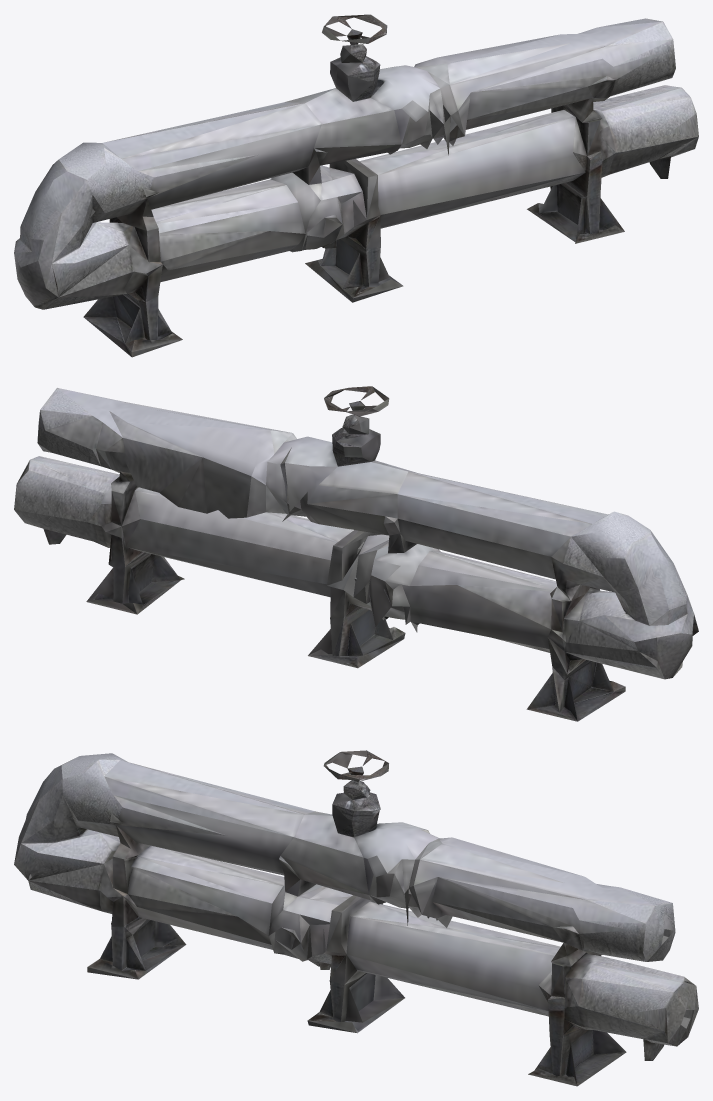
File: pipe_run.glb
3 views of the same model, one above another, from view 1: azimuth 30°, elevation 25°; view 2: azimuth 150°, elevation 25°; view 3: azimuth 330°, elevation 25° (orthographic).
Parts seen in each view (by area): view 1: Mesh_0; view 2: Mesh_0; view 3: Mesh_0.
Part boxes in pixels (x1=…): Mesh_0: x1=14, y1=14, x2=698, y2=357; Mesh_0: x1=14, y1=386, x2=698, y2=721; Mesh_0: x1=14, y1=750, x2=698, y2=1086.
Size of the model in its own units: 1.9 by 0.6858 by 0.2374.
Materials: 1 (1 with a texture image).
